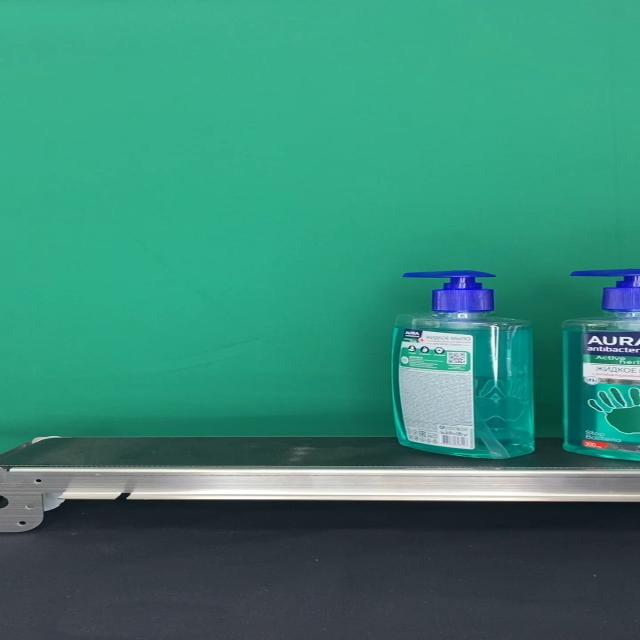Bottle: (390, 270, 534, 459)
Cap: (402, 270, 496, 312)
